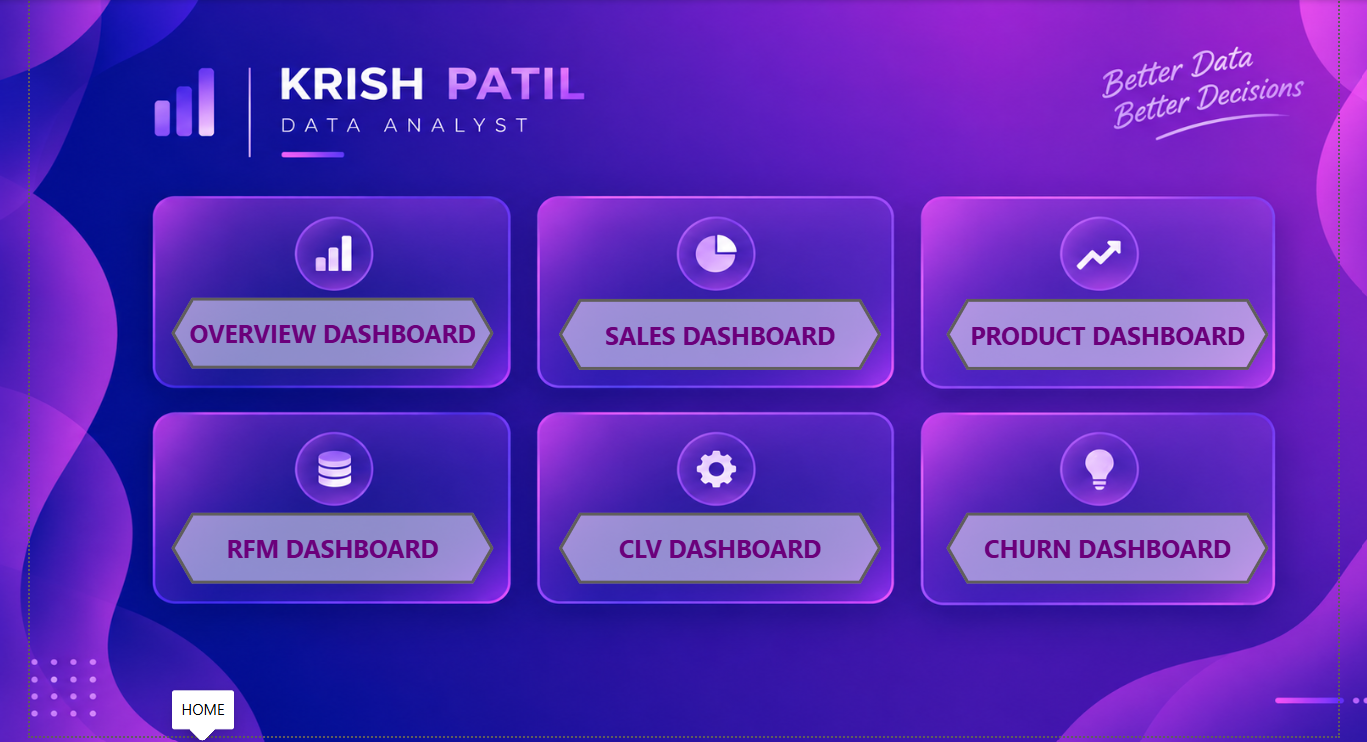

This screenshot's page, from the dashboard's own definition file:
{"tool":"powerbi","page":{"name":"HOME ","canvas":[1280,720],"ordinal":0},"visuals":[{"type":"actionButton","box":[138.8,291.2,315.5,69.7],"z":0},{"type":"actionButton","box":[517.5,292.5,315.5,69.7],"z":1000},{"type":"actionButton","box":[896.2,292.5,315.5,69.7],"z":2000},{"type":"actionButton","box":[138.8,501.2,315.5,69.7],"z":3000},{"type":"actionButton","box":[517.5,501.2,315.5,69.7],"z":4000},{"type":"actionButton","box":[896.2,501.2,315.5,69.7],"z":5000}]}

Visuals, with their boxes on the page's 1280x720 design canvas (x1, y1, x2, y2). These are canvas units, not pixel positions in the 1367x742 screenshot, which may show the page scaled, cropped or inside an application window:
actionButton: l=139, t=291, r=454, b=361
actionButton: l=518, t=292, r=833, b=362
actionButton: l=896, t=292, r=1212, b=362
actionButton: l=139, t=501, r=454, b=571
actionButton: l=518, t=501, r=833, b=571
actionButton: l=896, t=501, r=1212, b=571
